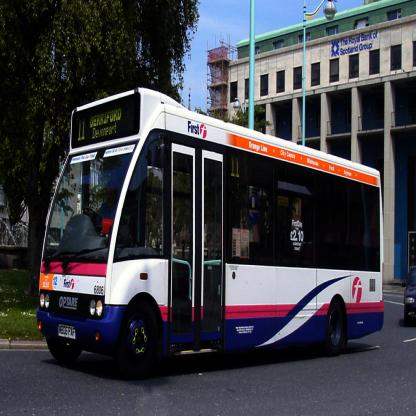Bus: (32, 86, 386, 378)
